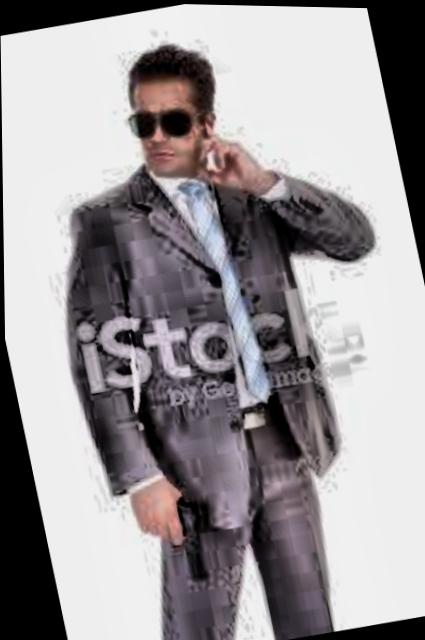pistol: (123, 490, 212, 594)
